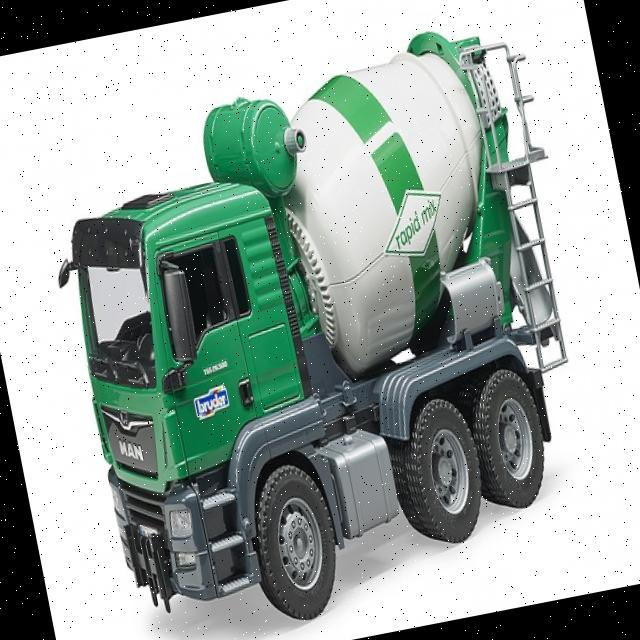Mixer Truck: (35, 14, 624, 640)
